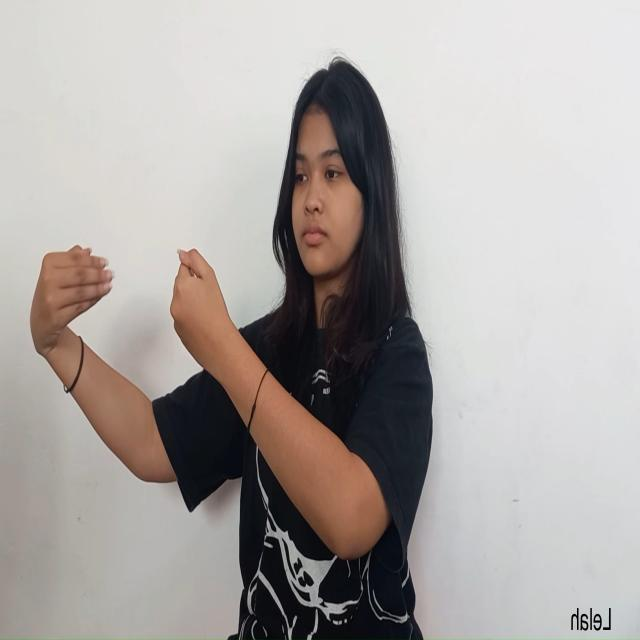Lelah -BISINDO-: (28, 242, 230, 384)
